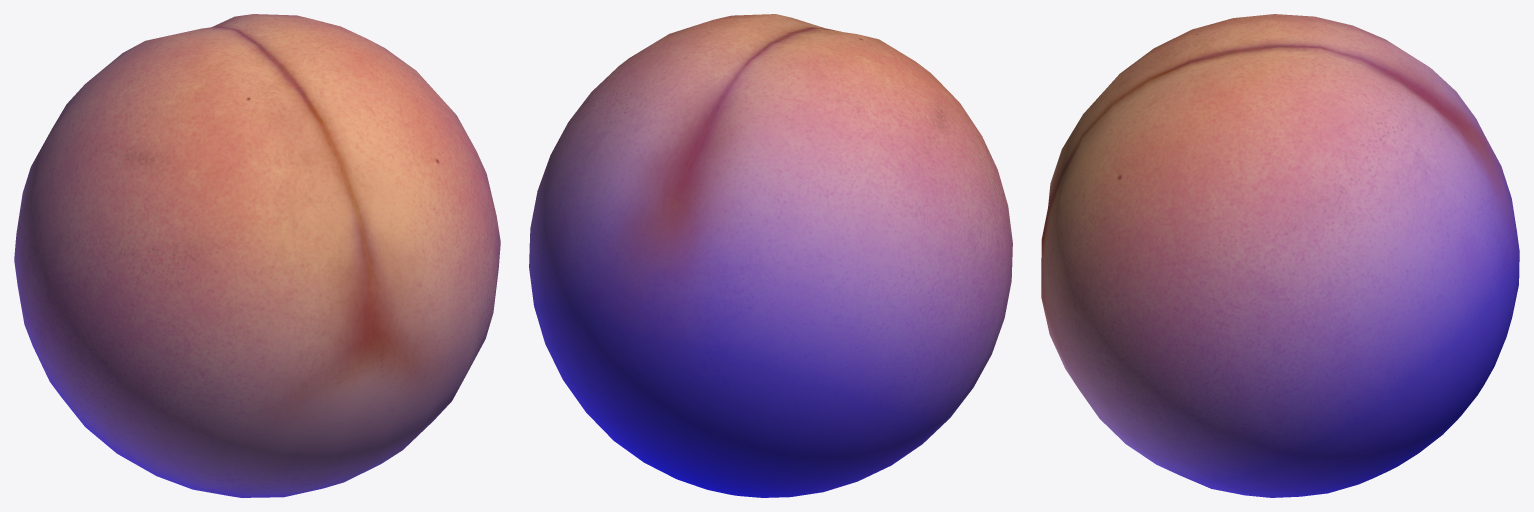
File: Assteroids06.glb
3 renders of one model, left to right at view 1: azimuth 30°, elevation 25°; view 2: azimuth 150°, elevation 25°; view 3: azimuth 270°, elevation 25°, orthographic.
Parts seen in each view (by area): view 1: Ass06; view 2: Ass06; view 3: Ass06.
Part boxes in pixels (bbox=[...]): Ass06: bbox=[14, 14, 500, 497]; Ass06: bbox=[529, 14, 1012, 497]; Ass06: bbox=[1041, 14, 1519, 497].
Bounding box in the file's own units: 1.99 × 1.97 × 1.97.
1 material, 1 textured.
